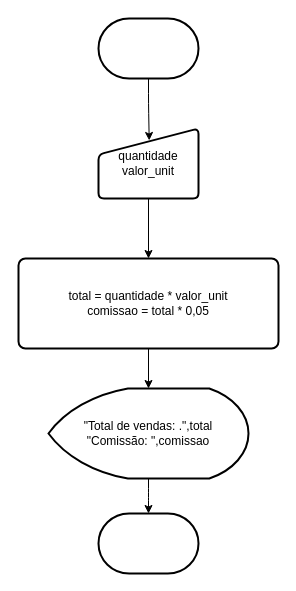
The diagram is 296 pixels wide and 591 high, and some of its shapes have lost their labels. Here are the shapes that lost their labels. From the top down, the centre of each, then its label:
the point at 148,48: início
the point at 148,543: fim
